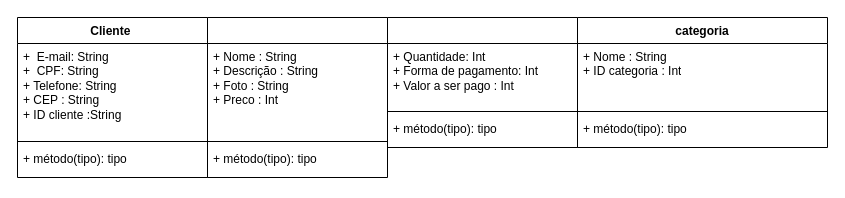
The diagram is 845 pixels wide and 198 high, and some of its shapes have lost their labels. Each missing label, with the box of its shape:
Pedido: (386, 16, 578, 148)
Produto: (206, 16, 388, 178)
